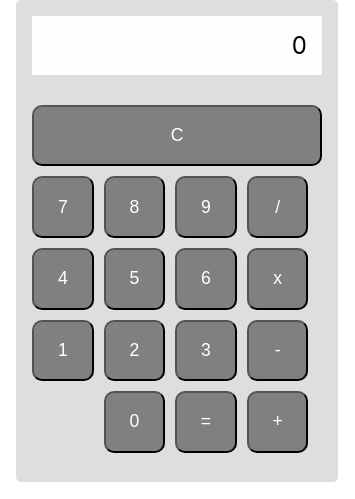
Test case: Calculator › does the app handle negative numbers as the result of a calculation?
What coordinates should you click on to do the following:
click the button with id "number1"
I would click on:
 (63, 351)
Its box is [32,320,94,382].
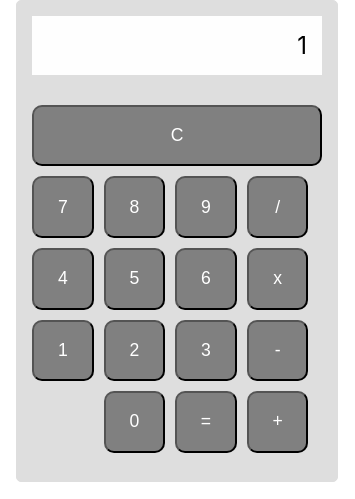
What coordinates should you click on to do the following:
click the button with id "operator_subtract"
I would click on:
 (278, 351)
Its box is [247,320,309,382].
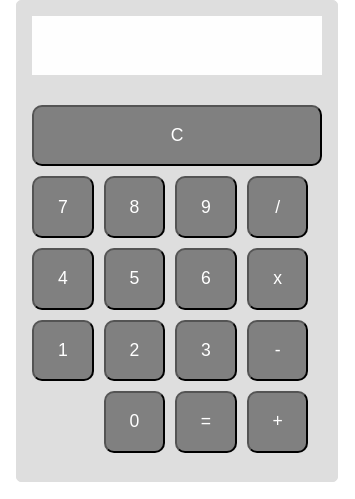
What coordinates should you click on to do the following:
click the button with id "number4"
I would click on:
 (63, 279)
Its box is [32,248,94,310].
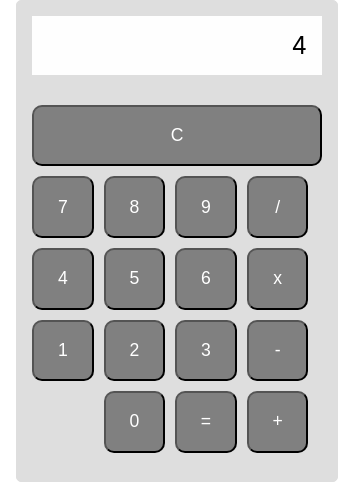
What coordinates should you click on to do the following:
click the button with id "operator_equals"
I would click on:
 (206, 422)
Its box is [175,391,237,453].
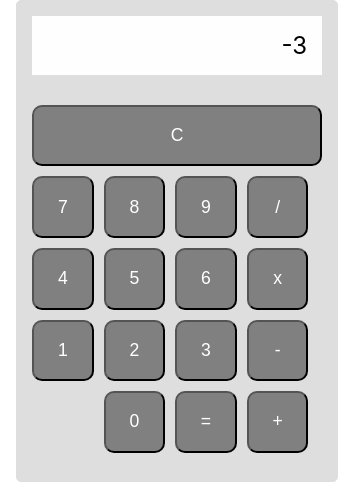
Expected: the text with class "display" reads "-3", [281,31,307,60]
